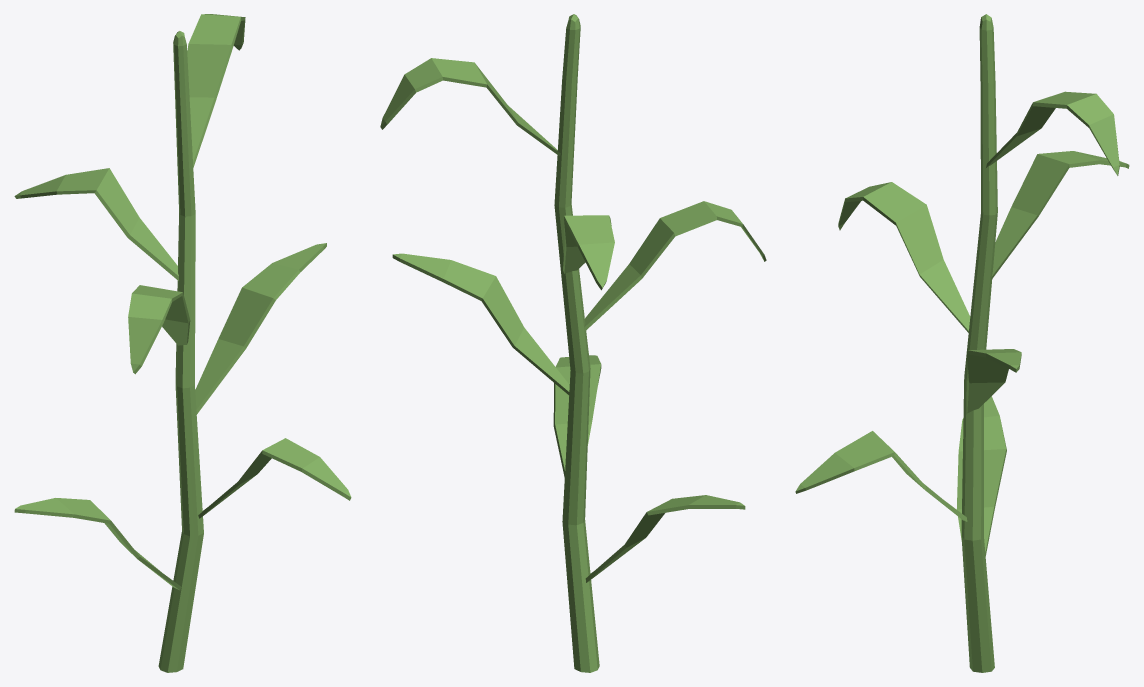
File: Corn_3.glb
The picture shows the model from 3 angles, left to right: view 1: azimuth 30°, elevation 25°; view 2: azimuth 150°, elevation 25°; view 3: azimuth 270°, elevation 25°; orthographic projection. The views are drawn at different scales.
Visible parts, largest first — view 1: Corn_3; view 2: Corn_3; view 3: Corn_3.
Boxes of the visible parts, box(x1,y1,x2,y2) form: Corn_3: box(14, 14, 351, 672); Corn_3: box(380, 14, 766, 672); Corn_3: box(795, 14, 1129, 672).
Size of the model in its own units: 0.6747 by 1.25 by 0.5726.
